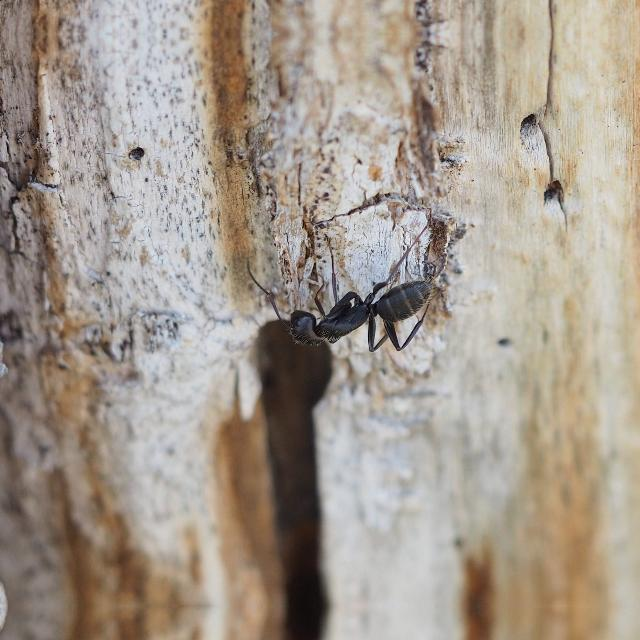Camponotus: (263, 266, 443, 348)
